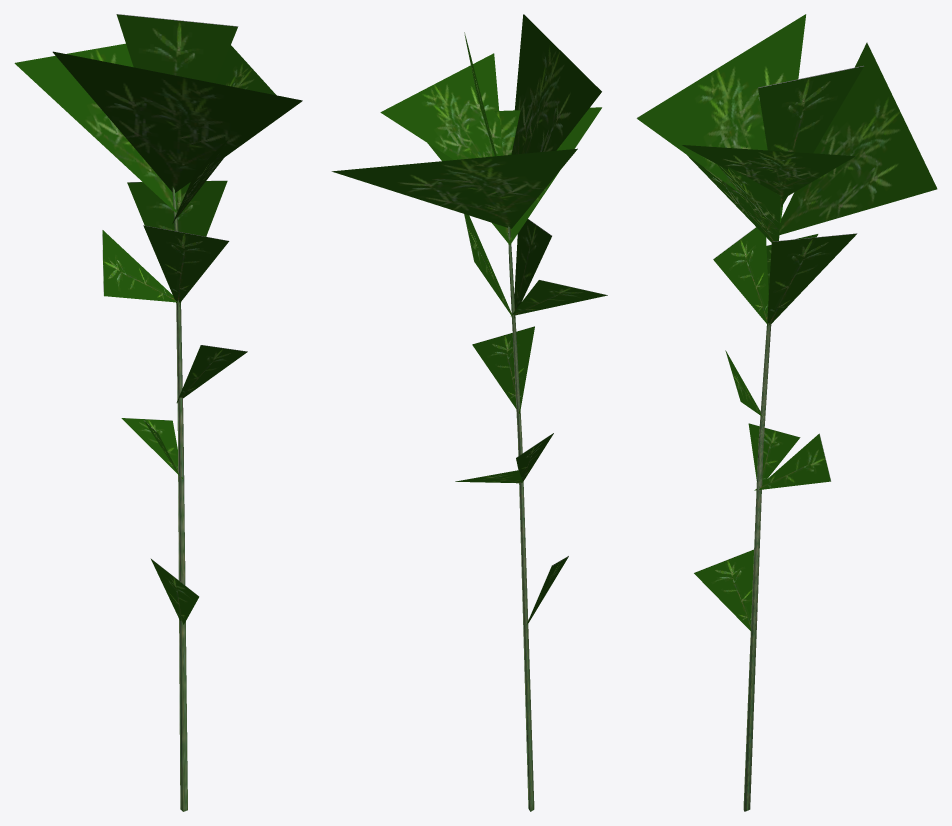
Rendered from leaf_bamboo_sm_l1.fbx.
The picture shows the model from 3 angles, left to right: view 1: azimuth 30°, elevation 25°; view 2: azimuth 150°, elevation 25°; view 3: azimuth 270°, elevation 25°; orthographic projection. The views are drawn at different scales.
Visible parts, largest first — view 1: mesh_node; view 2: mesh_node; view 3: mesh_node.
Boxes of the visible parts, x1,y1,x2,y2 form: mesh_node: (14, 14, 302, 811); mesh_node: (331, 14, 607, 811); mesh_node: (636, 14, 937, 811).
Bounding box in the file's own units: 3.46 × 11.67 × 4.24.
Materials: 2 (2 with a texture image).
